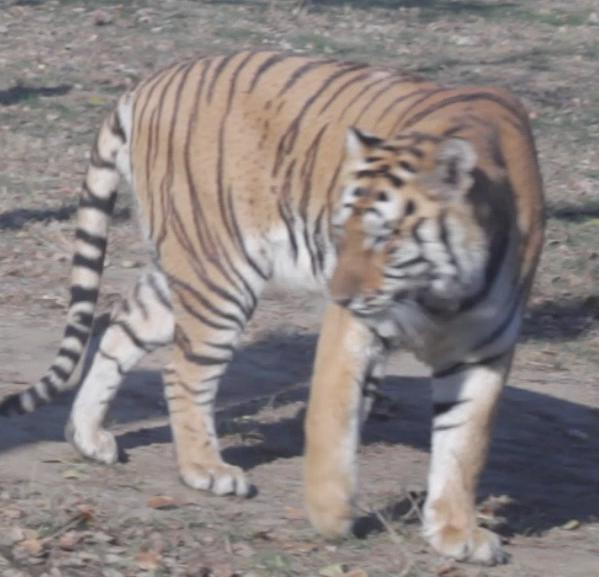tiger: (5, 51, 543, 562)
